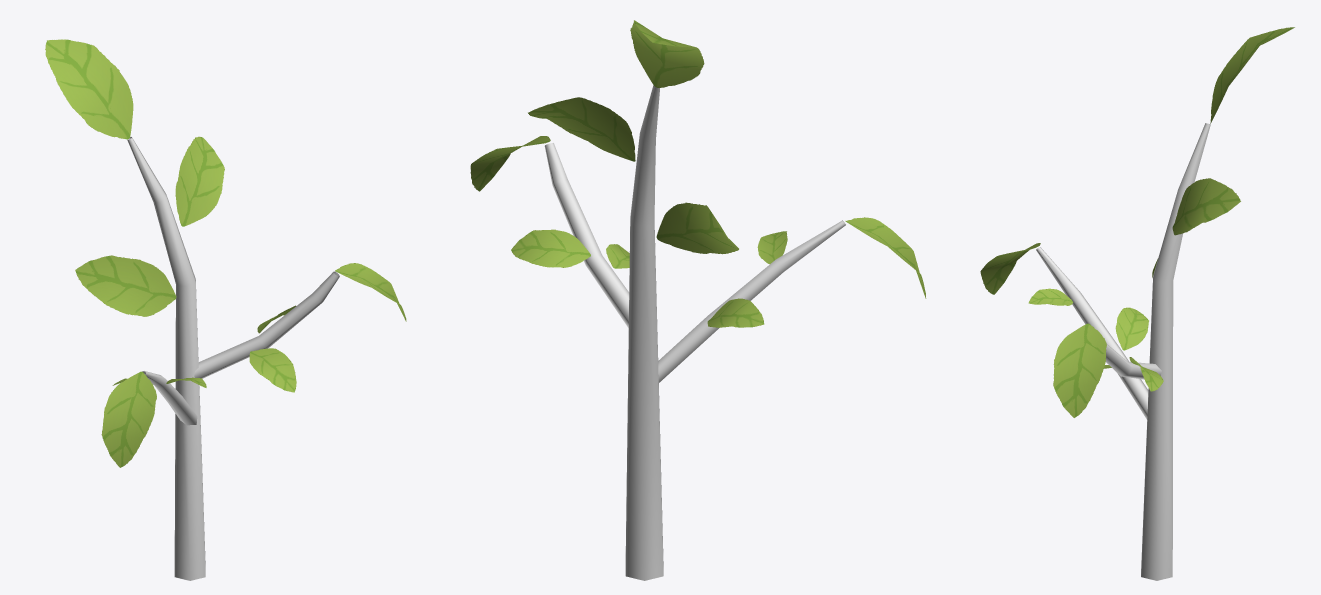
3 views of the same model, side by side, from view 1: azimuth 30°, elevation 25°; view 2: azimuth 150°, elevation 25°; view 3: azimuth 270°, elevation 25° (orthographic). The views are drawn at different scales.
Visible parts, largest first — view 1: 番茄苗01; view 2: 番茄苗01; view 3: 番茄苗01.
Boxes of the visible parts, x1,y1,x2,y2 form: 番茄苗01: [45, 39, 406, 580]; 番茄苗01: [470, 20, 926, 580]; 番茄苗01: [980, 27, 1294, 580].
Size of the model in its own units: 24.61 by 34 by 19.97.
2 materials, 1 textured.
